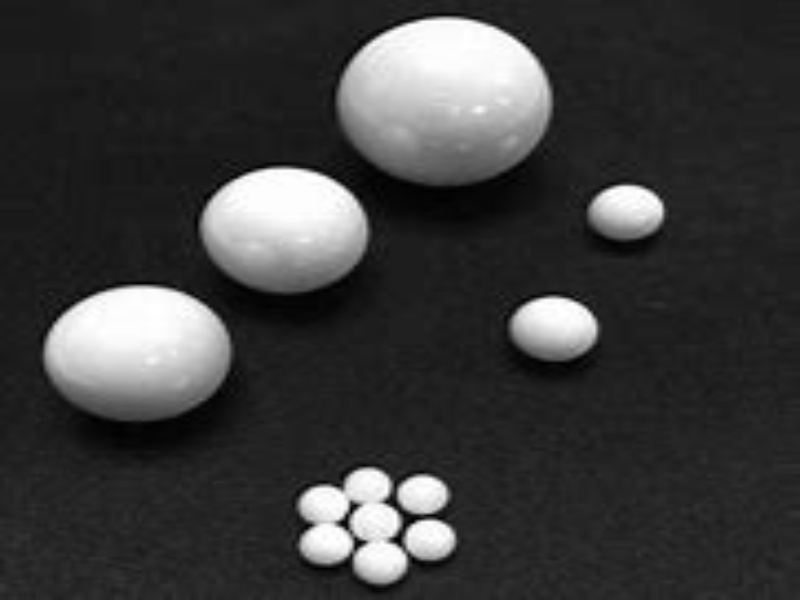bead: (336, 15, 553, 185), (41, 282, 237, 420), (199, 163, 369, 293), (507, 292, 600, 365), (583, 183, 665, 240), (395, 467, 456, 520), (352, 539, 410, 588), (290, 481, 353, 525), (294, 523, 356, 567), (402, 519, 459, 563), (348, 500, 406, 542), (341, 463, 395, 508)
